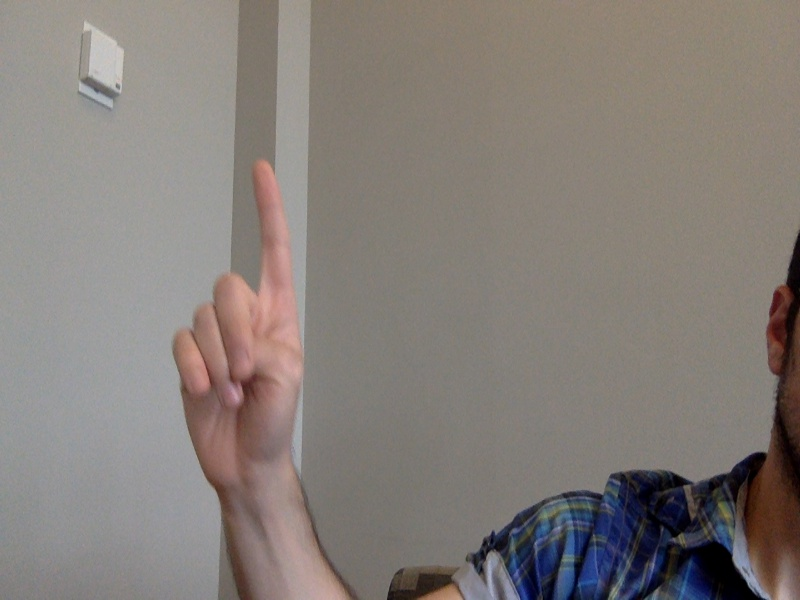1-hand: (171, 157, 308, 497)
